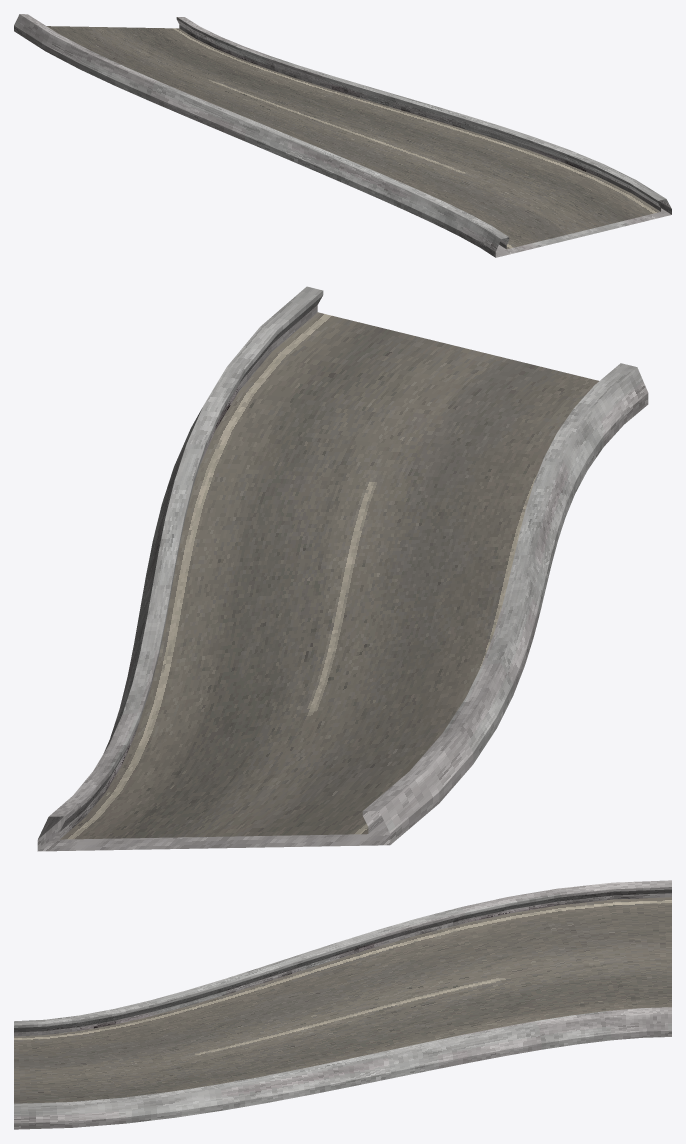
The model's file is road-Chicane-Flat-HalfBankedRight-Even-Left1-Size3.glb.
3 renders of one model, top to bottom at view 1: azimuth 30°, elevation 25°; view 2: azimuth 150°, elevation 25°; view 3: azimuth 270°, elevation 25°, orthographic. The views are drawn at different scales.
Parts seen in each view (by area): view 1: road-Chicane-Flat-HalfBankedRight-Even-Left1-Size3; view 2: road-Chicane-Flat-HalfBankedRight-Even-Left1-Size3; view 3: road-Chicane-Flat-HalfBankedRight-Even-Left1-Size3.
Boxes of the visible parts, left/top/right/bottom form: road-Chicane-Flat-HalfBankedRight-Even-Left1-Size3: left=14, top=14, right=671, bottom=257; road-Chicane-Flat-HalfBankedRight-Even-Left1-Size3: left=37, top=286, right=648, bottom=851; road-Chicane-Flat-HalfBankedRight-Even-Left1-Size3: left=14, top=880, right=671, bottom=1129.
Size of the model in its own units: 2 by 0.3359 by 3.
Materials: 2 (2 with a texture image).
